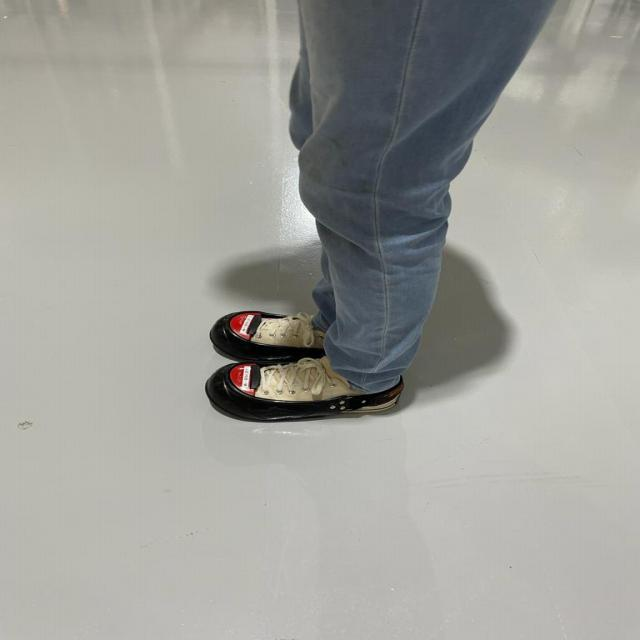shoes: (202, 355, 412, 426), (203, 304, 337, 356)
